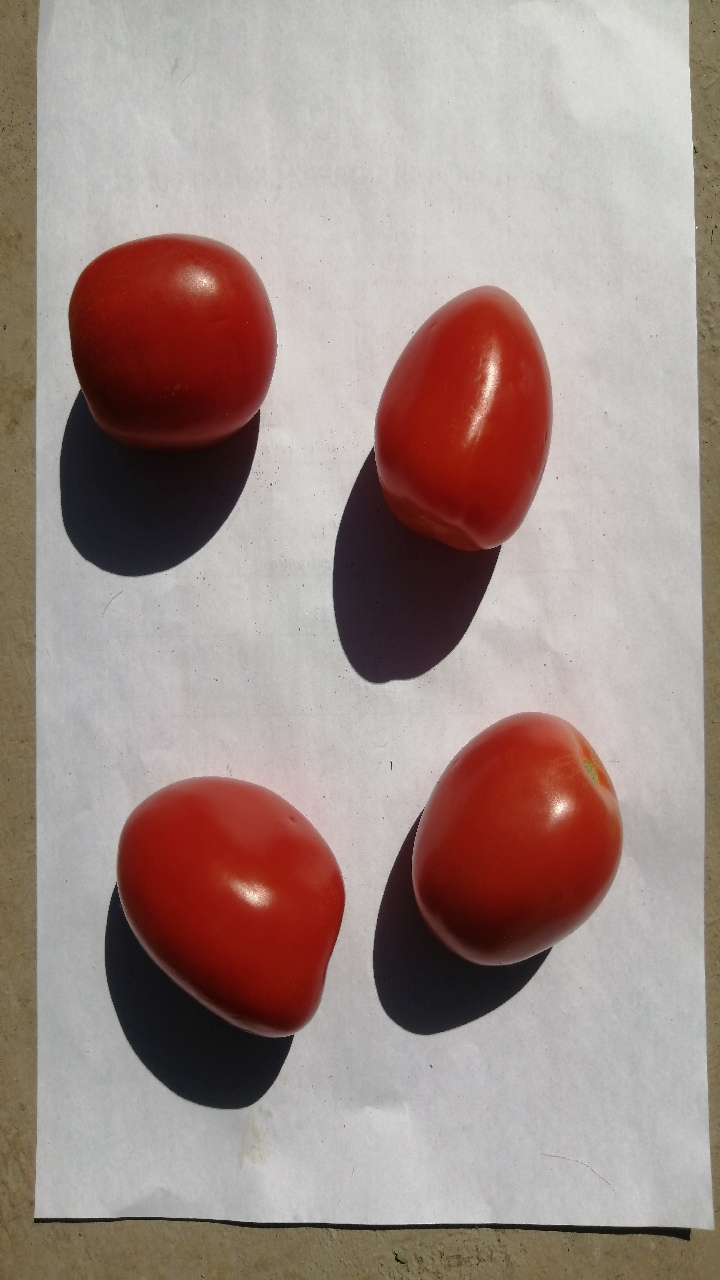tomateRojo: (98, 759, 360, 1059), (395, 692, 643, 980), (354, 266, 568, 583), (58, 208, 278, 474)
